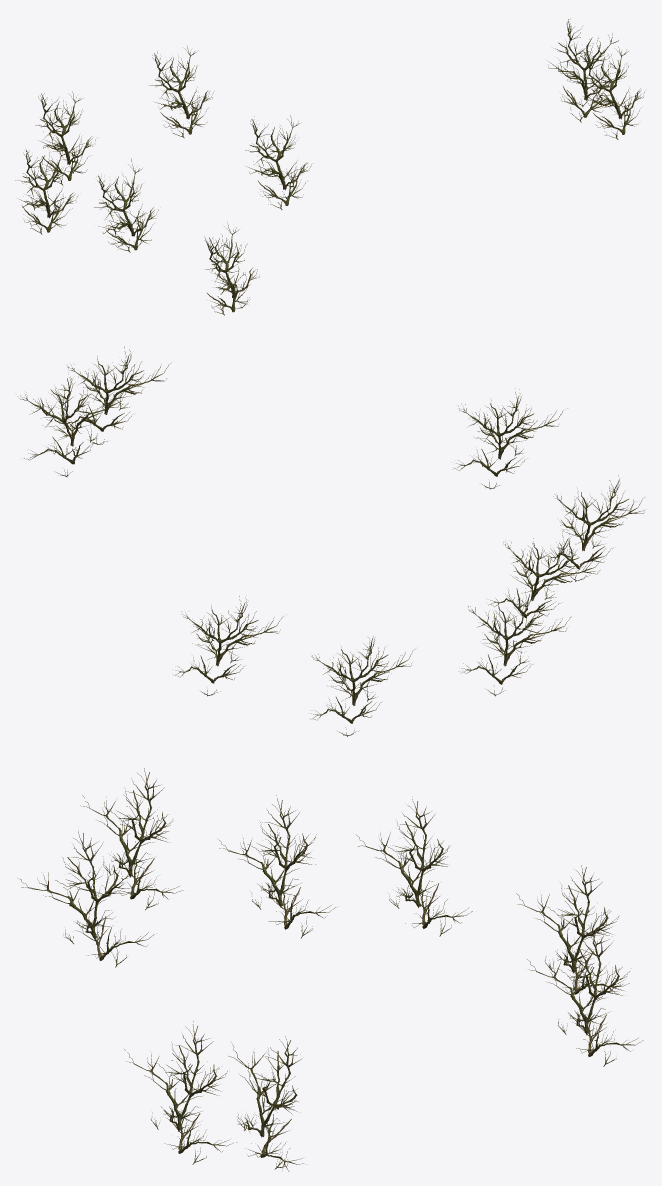
Rendered from treeBb.fbx.
3 renders of one model, top to bottom at view 1: azimuth 30°, elevation 25°; view 2: azimuth 150°, elevation 25°; view 3: azimuth 270°, elevation 25°, orthographic. The views are drawn at different scales.
Parts seen in each view (by area): view 1: m009002_1_5, m009002_1_1, m009002_1_4, m009002_1_6, m009002_1_2, m009002_1, m009002_1_7, m009002_1_3; view 2: m009002_1_5, m009002_1_4, m009002_1_6, m009002_1_3, m009002_1_1, m009002_1_7, m009002_1_2, m009002_1; view 3: m009002_1_5, m009002_1_6, m009002_1, m009002_1_1, m009002_1_4, m009002_1_3, m009002_1_2, m009002_1_7.
Part boxes in pixels (box(x1,y1,x2,y2)): m009002_1_5: box(94, 158, 158, 252); m009002_1_1: box(245, 115, 311, 209); m009002_1_4: box(15, 142, 77, 234); m009002_1_6: box(148, 46, 213, 138); m009002_1_2: box(548, 18, 618, 122); m009002_1: box(578, 46, 644, 139); m009002_1_7: box(35, 91, 95, 185); m009002_1_3: box(204, 221, 259, 315); m009002_1_5: box(488, 533, 603, 629); m009002_1_4: box(461, 588, 571, 696); m009002_1_6: box(175, 596, 282, 696); m009002_1_3: box(547, 476, 644, 581); m009002_1_1: box(454, 388, 563, 489); m009002_1_7: box(308, 636, 414, 736); m009002_1_2: box(19, 372, 126, 477); m009002_1: box(64, 346, 170, 444); m009002_1_5: box(218, 795, 336, 938); m009002_1_6: box(527, 923, 643, 1066); m009002_1: box(124, 1021, 237, 1164); m009002_1_1: box(80, 768, 183, 910); m009002_1_4: box(356, 799, 472, 936); m009002_1_3: box(20, 831, 154, 967); m009002_1_2: box(228, 1036, 303, 1171); m009002_1_7: box(516, 865, 629, 1003).
Size of the model in its own units: 373106 by 125733 by 291824.
8 materials, 8 textured.
